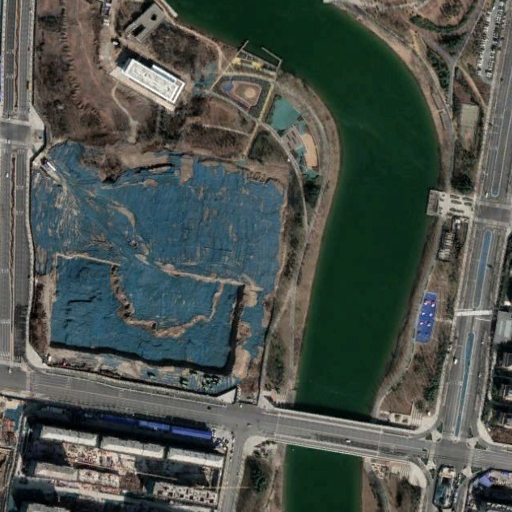cw: (29, 138, 281, 399)
